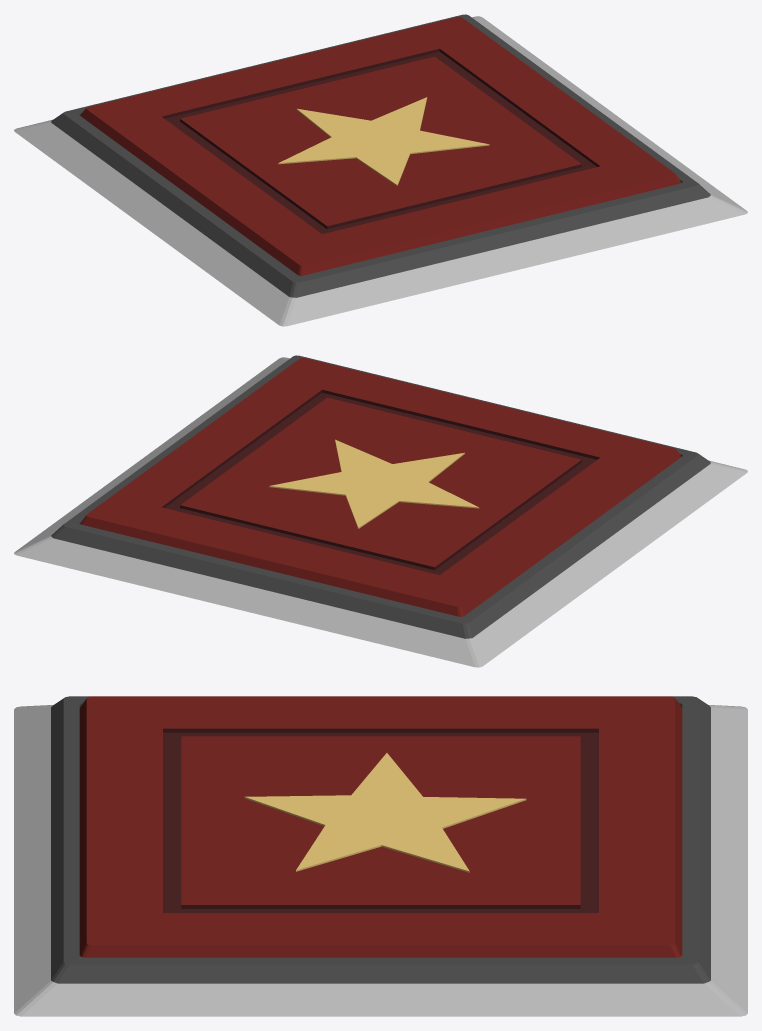
The model's file is SquarePressurePlateStar.fbx.
3 views of the same model, one above another, from view 1: azimuth 30°, elevation 25°; view 2: azimuth 150°, elevation 25°; view 3: azimuth 270°, elevation 25° (orthographic). The views are drawn at different scales.
Parts seen in each view (by area): view 1: Square_Pressure_Plate_With_Star_Sign, Square_Pressure_Plate_With_Star_Sign_Base; view 2: Square_Pressure_Plate_With_Star_Sign, Square_Pressure_Plate_With_Star_Sign_Base; view 3: Square_Pressure_Plate_With_Star_Sign, Square_Pressure_Plate_With_Star_Sign_Base.
Part boxes in pixels (x1,y1,x2,y2): Square_Pressure_Plate_With_Star_Sign: (80,17,681,275); Square_Pressure_Plate_With_Star_Sign_Base: (14,14,747,326); Square_Pressure_Plate_With_Star_Sign: (80,358,681,616); Square_Pressure_Plate_With_Star_Sign_Base: (14,355,747,667); Square_Pressure_Plate_With_Star_Sign: (79,696,682,957); Square_Pressure_Plate_With_Star_Sign_Base: (14,696,747,1016).
Size of the model in its own units: 202 by 12.87 by 202.
